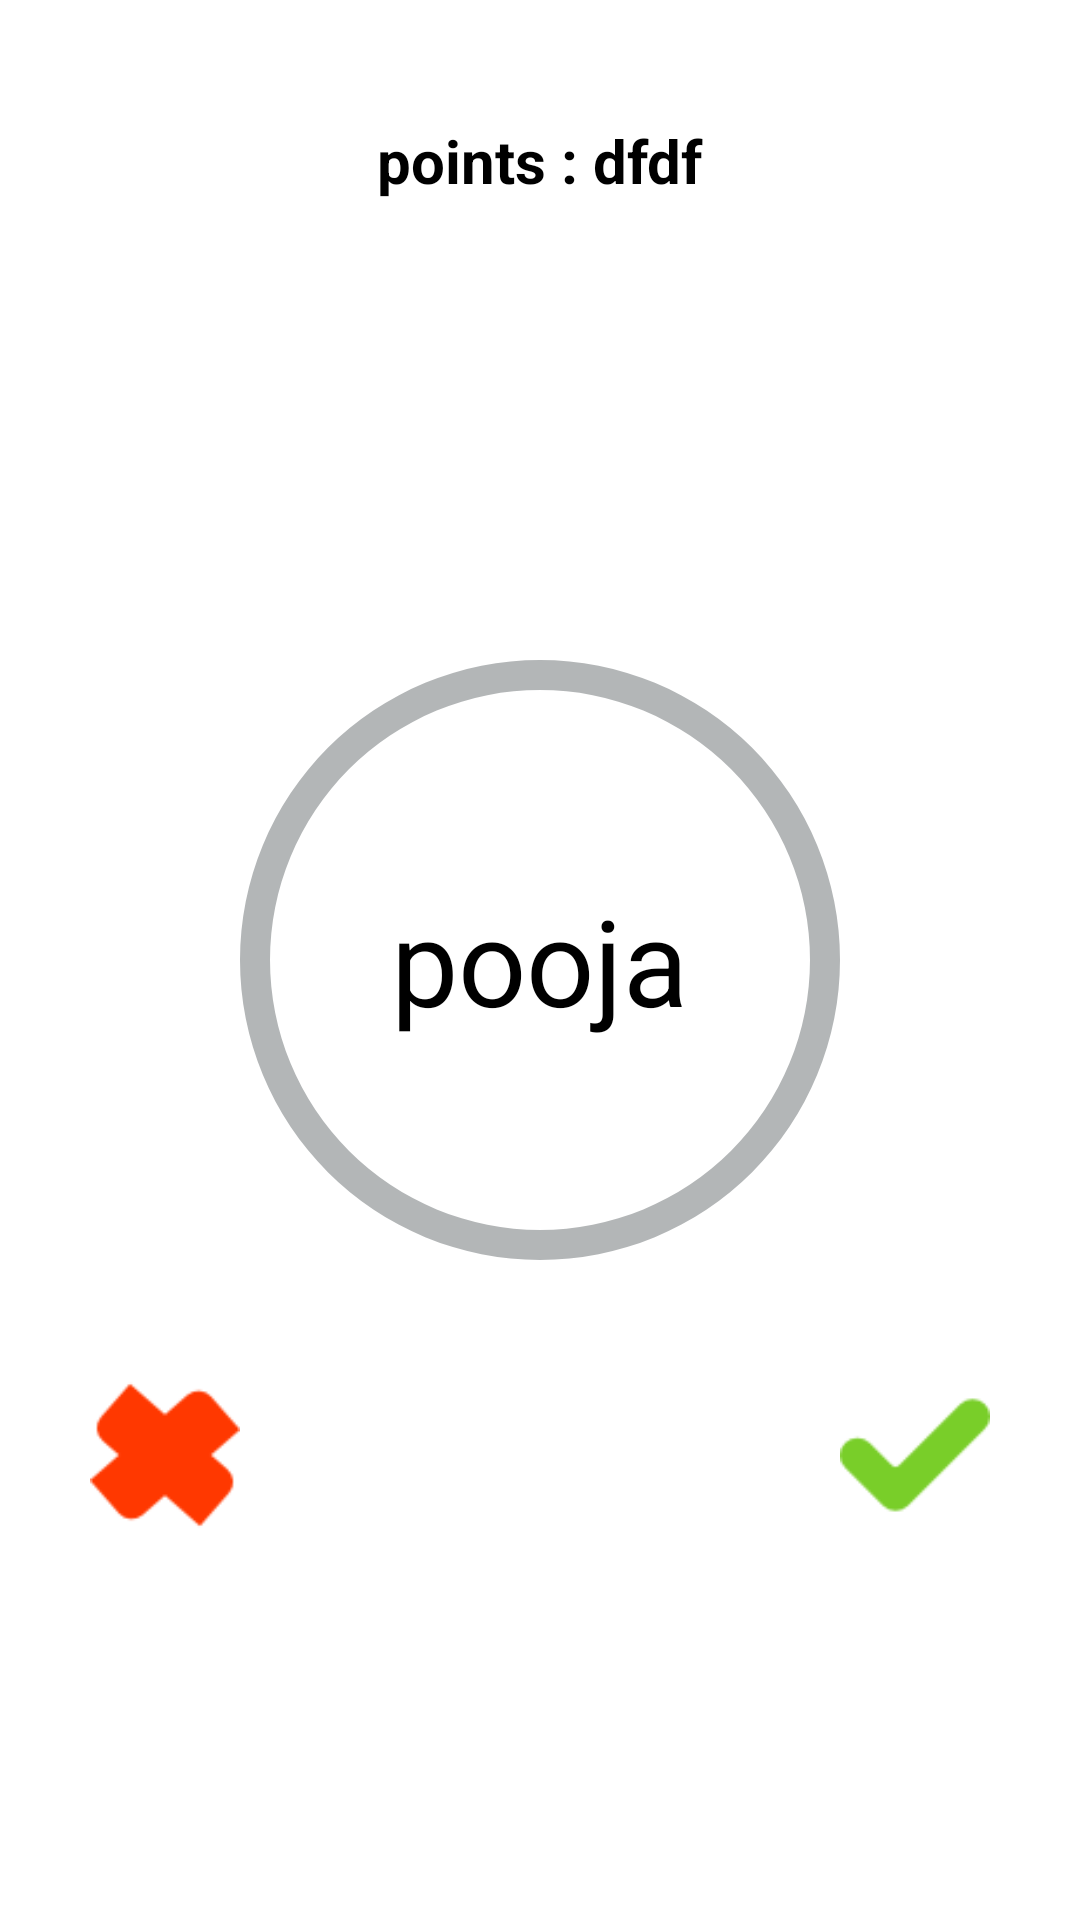

Icons on this 1080px×1920px Android screen, each with its box as (x1, y1, x2, y2):
check mark: (840, 1398, 990, 1512)
cross: (90, 1384, 240, 1526)
